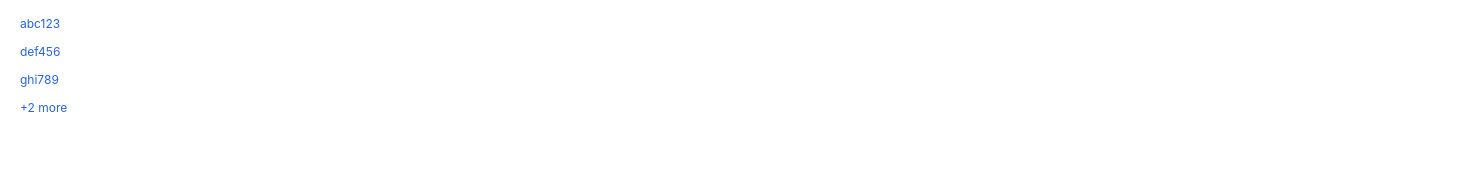
CommentList › expands to show all comments when "+X more" is clicked
Expected: the button "abc123" is shown, [12,12,1452,36]
Expected: the button "def456" is shown, [12,40,1452,64]
# Click the "+2 more" link
Click the button "+2 more" at (51, 108), box [12,96,1452,120]
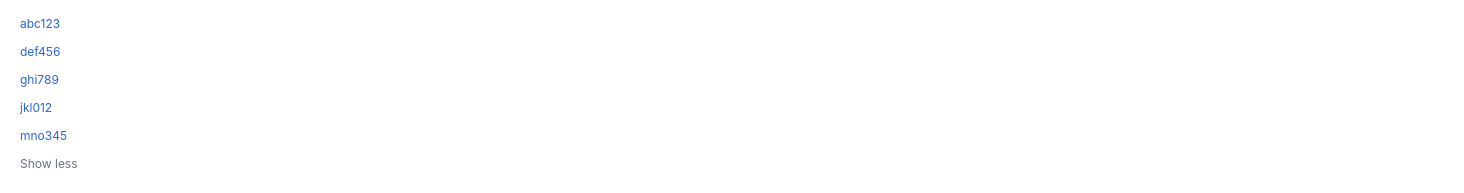
Expected: the button "jkl012" is shown, [12,96,1452,120]
Expected: the button "mno345" is shown, [12,124,1452,148]
Expected: the button "Show less" is shown, [12,152,1452,176]
